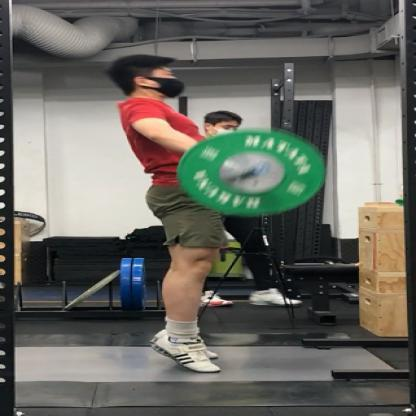barbell: (178, 128, 326, 218)
